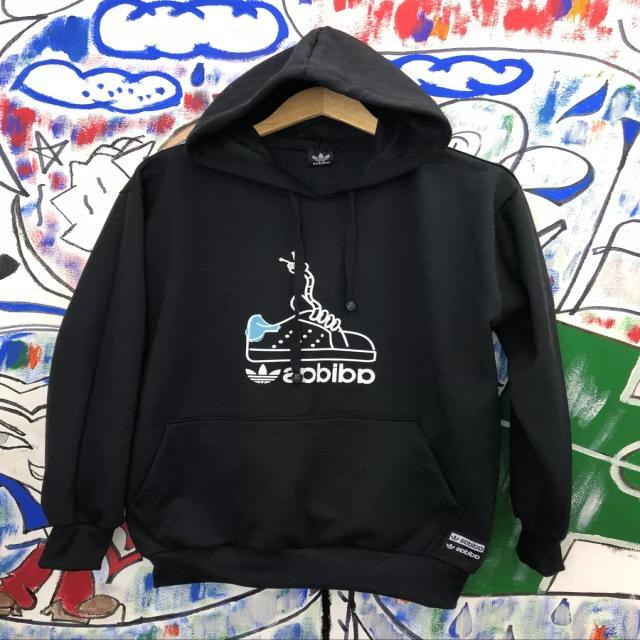sweater: (36, 22, 574, 612)
